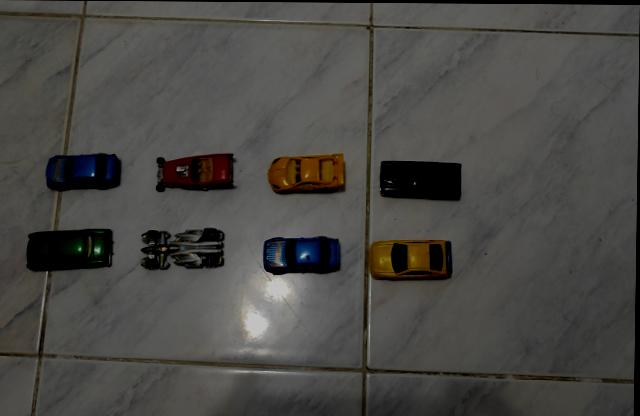01_FORD: (379, 160, 464, 203)
02_OZSOME: (368, 239, 453, 282)
03_V8: (154, 152, 236, 193)
04_MERZEDES: (263, 236, 342, 276), (45, 154, 123, 193)
05_DC121: (140, 227, 228, 271)
06_MASERATI: (24, 228, 114, 273)
07_RHLTURBO: (267, 154, 346, 196)
